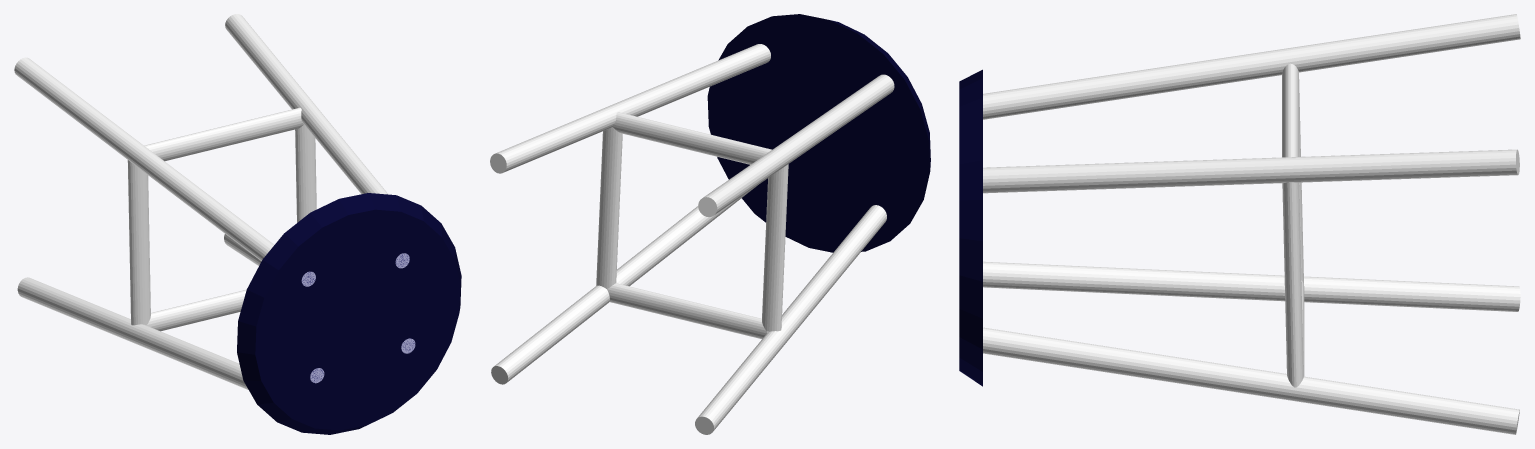
3 views of the same model, side by side, from view 1: azimuth 30°, elevation 25°; view 2: azimuth 150°, elevation 25°; view 3: azimuth 270°, elevation 25° (orthographic). The views are drawn at different scales.
Visible parts, largest first — view 1: art stool mpo art; view 2: art stool mpo art; view 3: art stool mpo art.
Part boxes in pixels (x1,y1,x2,y2): art stool mpo art: [14, 14, 461, 434]; art stool mpo art: [490, 14, 930, 434]; art stool mpo art: [959, 14, 1520, 434].
Size of the model in its own units: 18.83 by 18.84 by 32.61.
